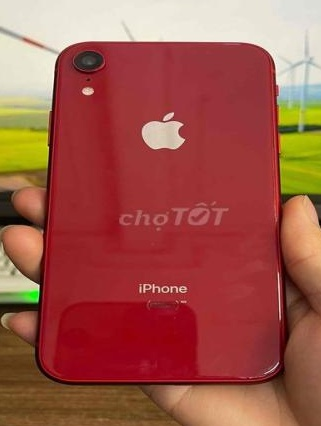scratch: (236, 367, 272, 384)
